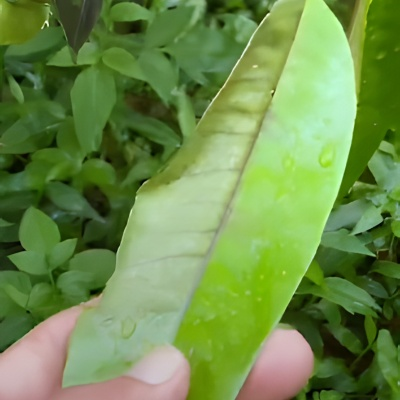Leaf_Rhizoctonia: (60, 0, 362, 400)
